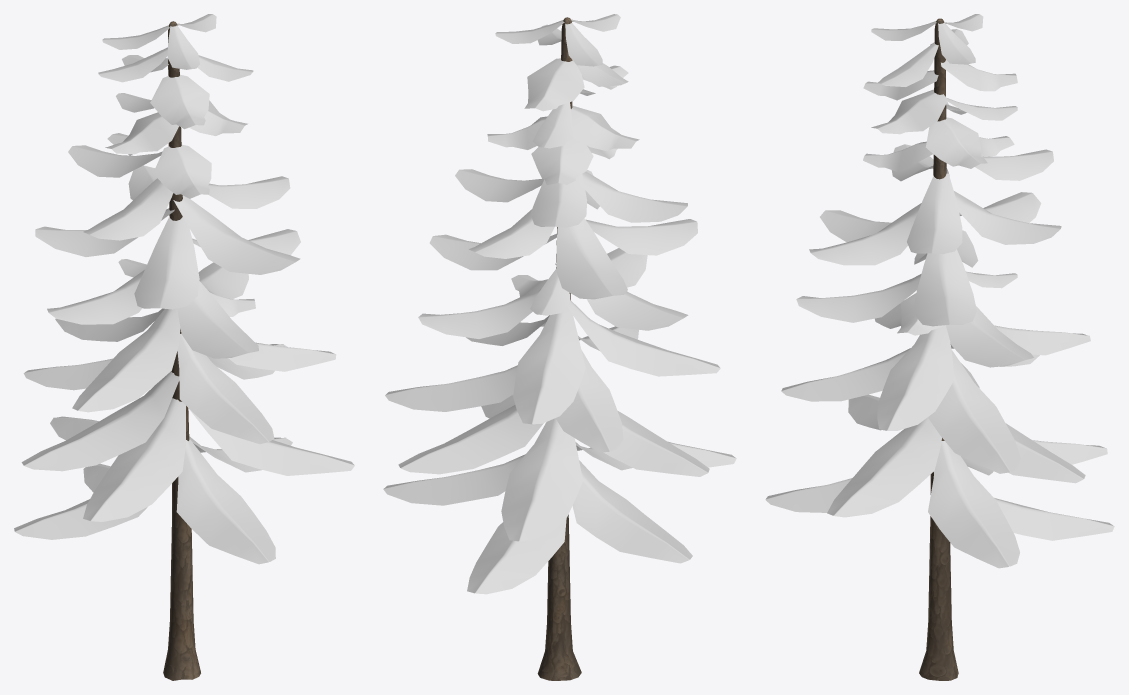
The model's file is tree05_main.fbx.
3 renders of one model, left to right at view 1: azimuth 30°, elevation 25°; view 2: azimuth 150°, elevation 25°; view 3: azimuth 270°, elevation 25°, orthographic.
Visible parts, largest first — view 1: Plane.004; view 2: Plane.004; view 3: Plane.004.
Boxes of the visible parts, <box> form: Plane.004: <box>14,14,354,680</box>; Plane.004: <box>383,14,736,680</box>; Plane.004: <box>765,14,1114,680</box>.
Size of the model in its own units: 525 by 1113 by 542.
